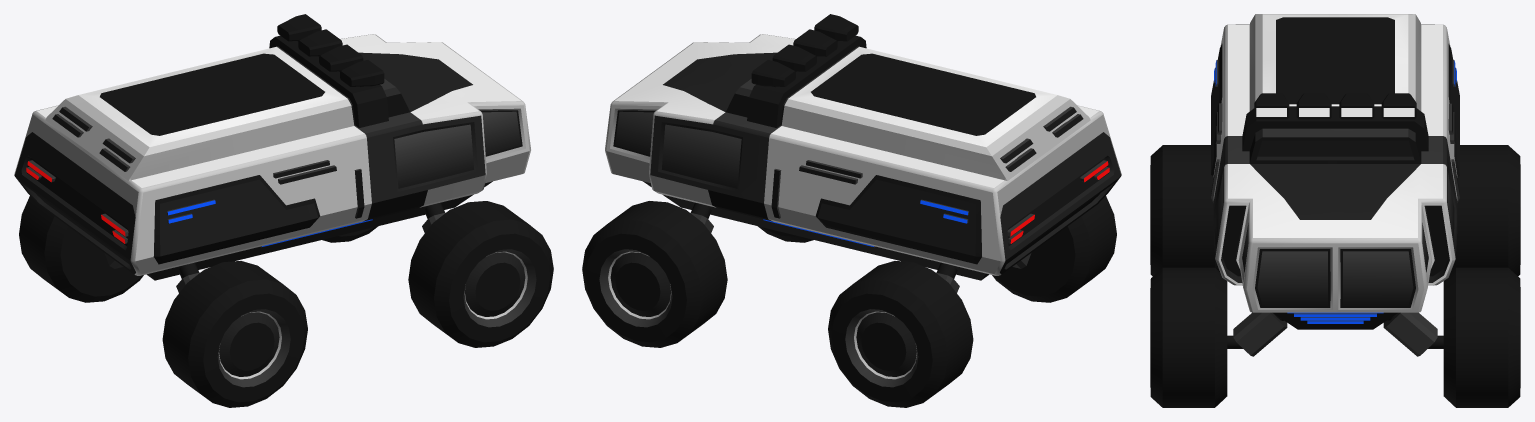
Rendered from Car_001.glb.
3 views of the same model, side by side, from view 1: azimuth 30°, elevation 25°; view 2: azimuth 150°, elevation 25°; view 3: azimuth 270°, elevation 25° (orthographic). The views are drawn at different scales.
Visible parts, largest first — view 1: Car_001, wheel_1_Car_001_Wheel_1R, wheel_3_Car_001_Wheel_2R, wheel_2_Car_001_Wheel_2L; view 2: Car_001, wheel_0_Car_001_Wheel_1L, wheel_2_Car_001_Wheel_2L, wheel_3_Car_001_Wheel_2R; view 3: Car_001, wheel_0_Car_001_Wheel_1L, wheel_1_Car_001_Wheel_1R, wheel_2_Car_001_Wheel_2L, wheel_3_Car_001_Wheel_2R.
Part boxes in pixels (x1,y1,x2,y2): Car_001: (14, 14, 530, 292); wheel_1_Car_001_Wheel_1R: (408, 201, 553, 347); wheel_3_Car_001_Wheel_2R: (162, 261, 307, 407); wheel_2_Car_001_Wheel_2L: (19, 196, 143, 302); Car_001: (605, 14, 1121, 292); wheel_0_Car_001_Wheel_1L: (582, 201, 727, 347); wheel_2_Car_001_Wheel_2L: (828, 261, 973, 407); wheel_3_Car_001_Wheel_2R: (992, 196, 1116, 302); Car_001: (1211, 14, 1459, 356); wheel_0_Car_001_Wheel_1L: (1428, 267, 1520, 407); wheel_1_Car_001_Wheel_1R: (1150, 267, 1242, 407); wheel_2_Car_001_Wheel_2L: (1451, 145, 1520, 276); wheel_3_Car_001_Wheel_2R: (1150, 145, 1219, 276).
Bounding box in the file's own units: 5.07 × 3.01 × 3.84.
2 materials, 2 textured.
